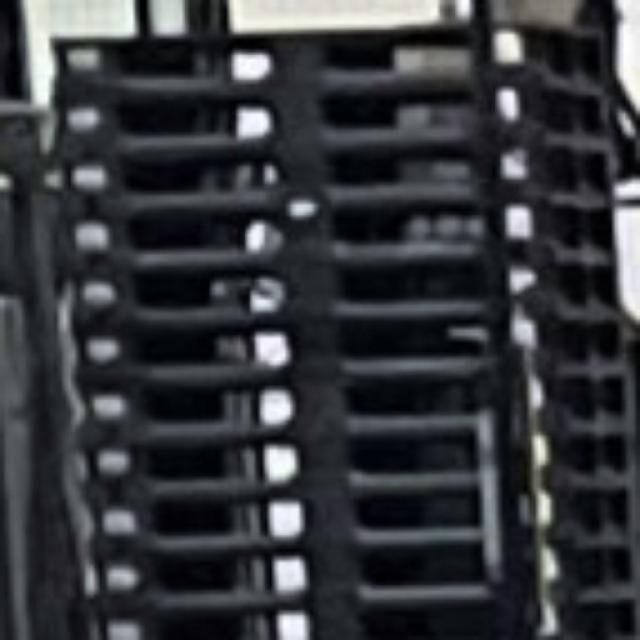igps: (42, 21, 622, 86), (62, 425, 640, 489), (37, 138, 625, 200), (60, 313, 640, 372), (42, 199, 624, 257), (79, 542, 640, 602), (62, 375, 640, 433), (69, 488, 640, 544), (40, 90, 624, 141), (57, 263, 625, 312), (78, 599, 640, 640)
